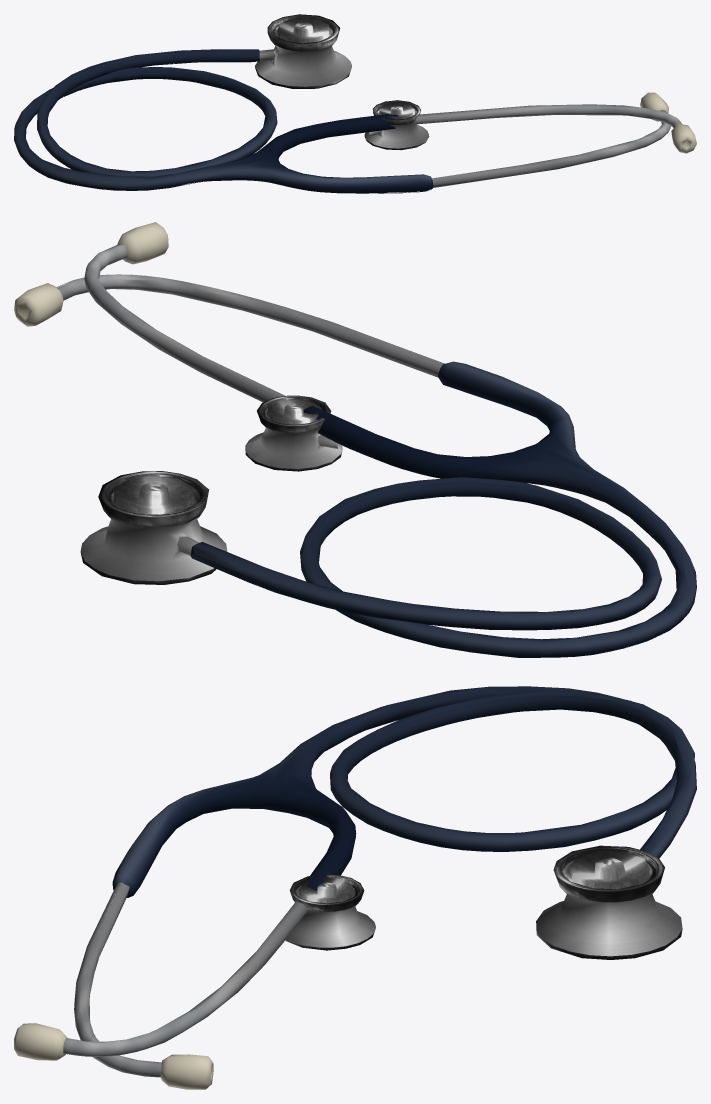
Rendered from AcusticStethoscope.glb.
3 views of the same model, one above another, from view 1: azimuth 30°, elevation 25°; view 2: azimuth 150°, elevation 25°; view 3: azimuth 270°, elevation 25° (orthographic). The views are drawn at different scales.
Visible parts, largest first — view 1: acusticStethoscope, acusticStethoscopeSensor; view 2: acusticStethoscope, acusticStethoscopeSensor; view 3: acusticStethoscope, acusticStethoscopeSensor.
Boxes of the visible parts, x1,y1,x2,y2 form: acusticStethoscope: (14,14,696,193); acusticStethoscopeSensor: (364,100,429,150); acusticStethoscope: (14,222,696,657); acusticStethoscopeSensor: (245,395,342,471); acusticStethoscope: (14,686,696,1089); acusticStethoscopeSensor: (285,874,375,950).
Size of the model in its own units: 0.4031 by 0.0314 by 0.2934.
Materials: 1 (1 with a texture image).
